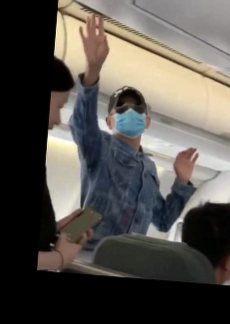with_mask: (110, 98, 146, 139)
without_mask: (48, 93, 67, 139)
